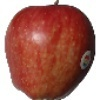apple: (4, 5, 96, 100)
